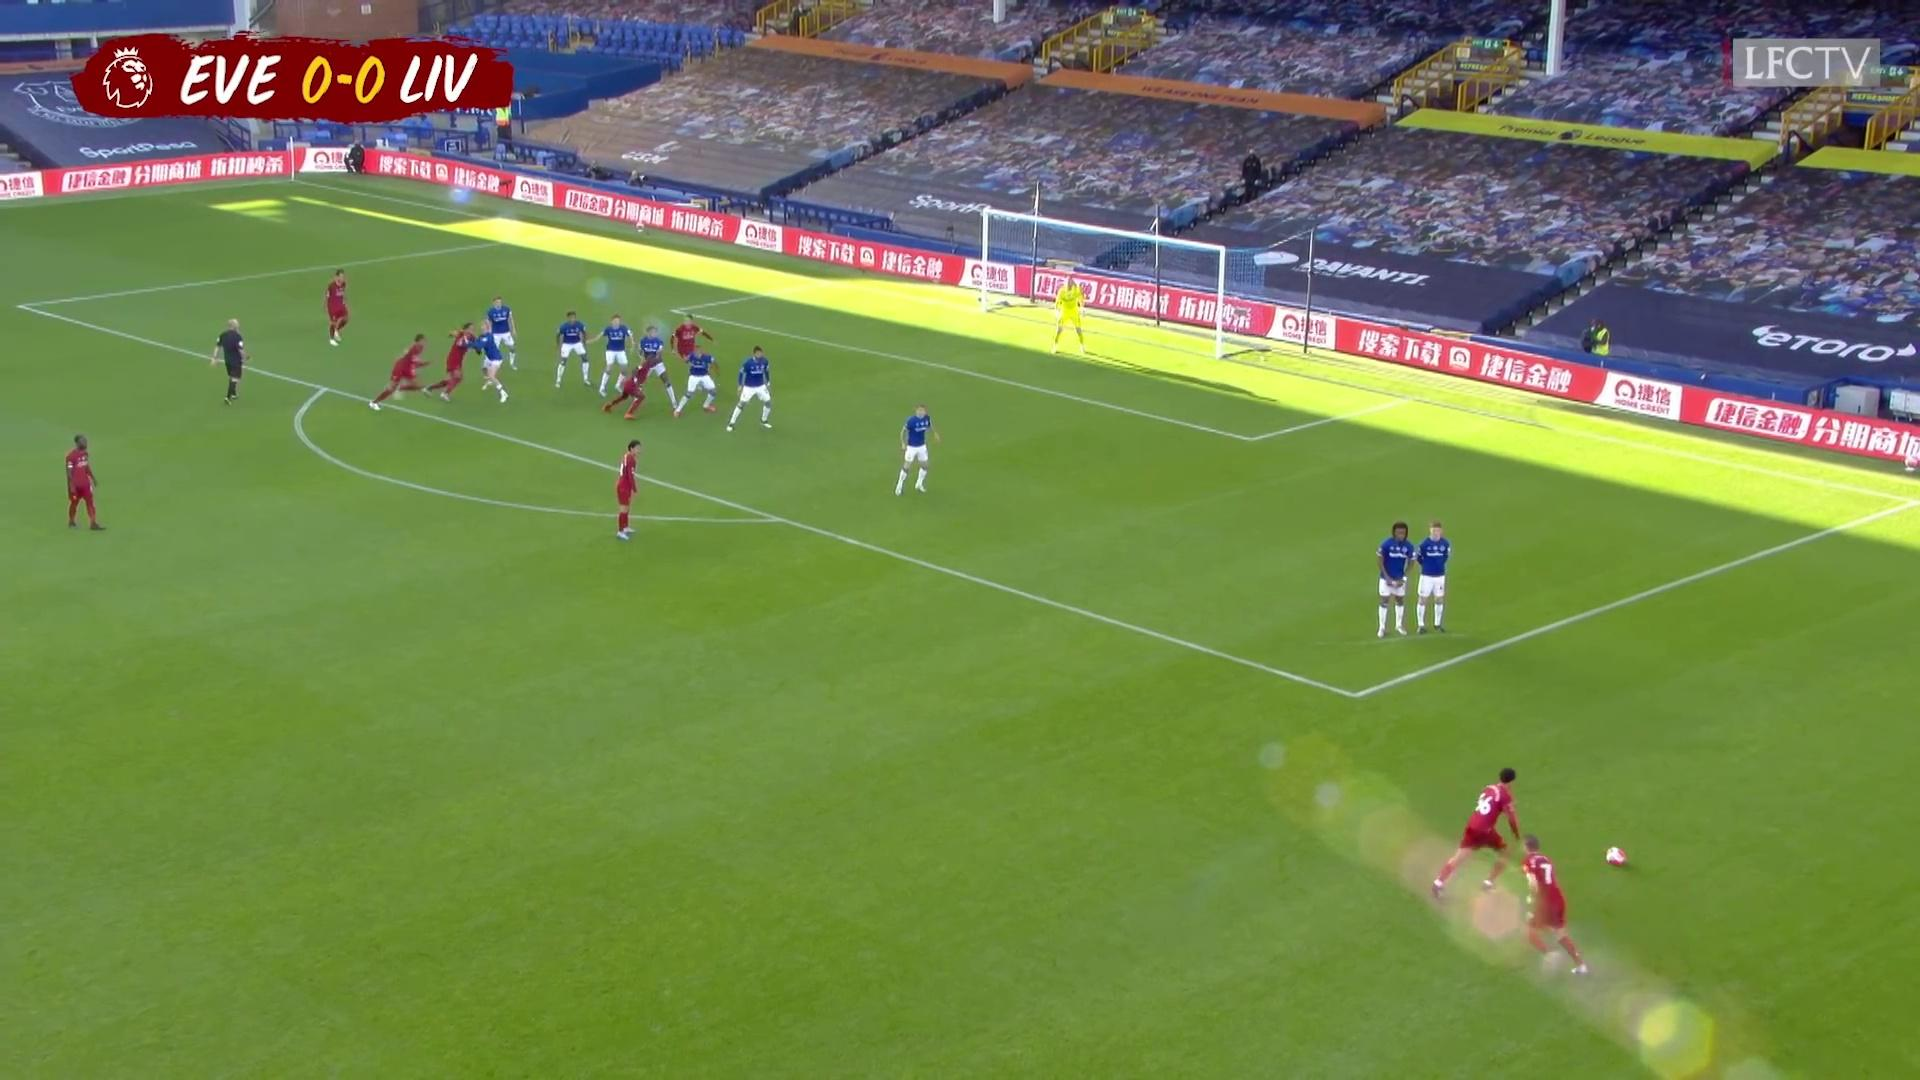ball: (1604, 843, 1630, 871)
goalkeeper: (1048, 277, 1093, 358)
player: (1428, 759, 1546, 907), (1518, 832, 1595, 985), (1372, 520, 1418, 640), (621, 315, 681, 404), (892, 399, 944, 498), (422, 323, 484, 406), (62, 430, 110, 537), (372, 332, 431, 416), (1414, 520, 1454, 637), (597, 312, 646, 407), (725, 342, 774, 434), (457, 319, 508, 405), (672, 344, 724, 420), (555, 310, 602, 394), (669, 312, 715, 396), (614, 436, 649, 543), (478, 294, 523, 376), (601, 354, 654, 421), (325, 266, 352, 348)
referee: (210, 316, 253, 410)
